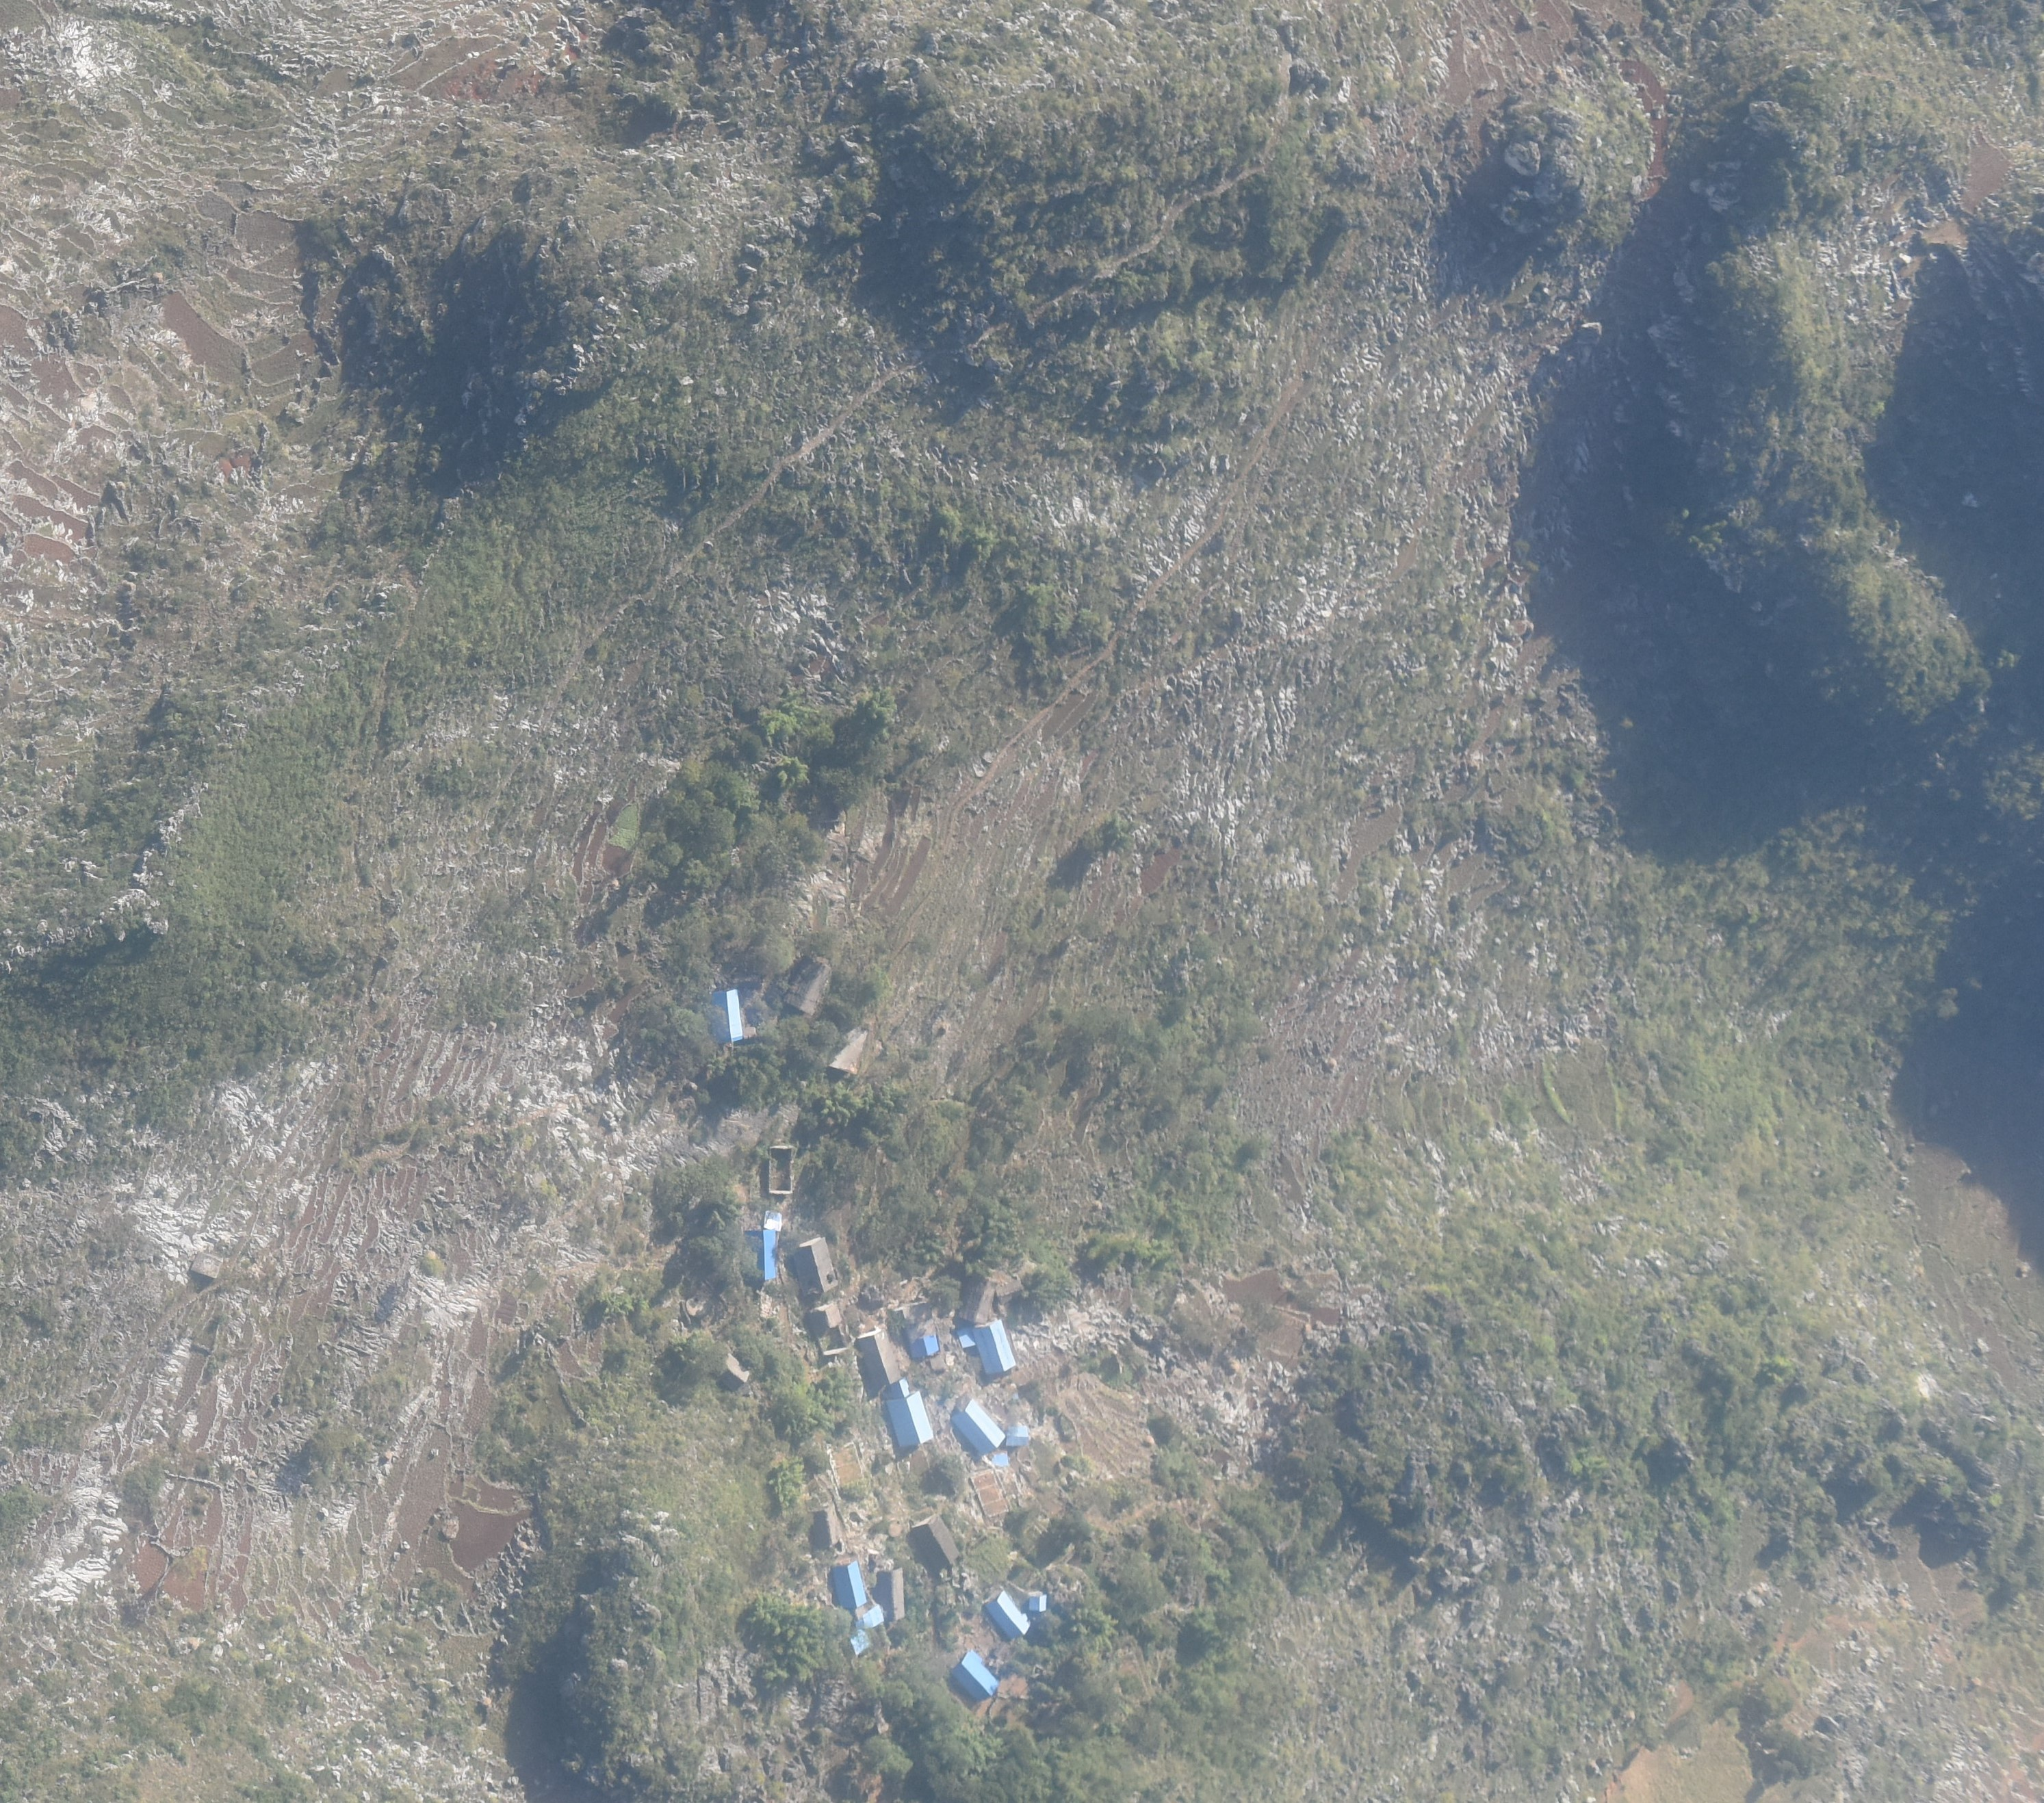building: (785, 957, 832, 1018), (858, 1328, 902, 1391), (911, 1514, 959, 1570), (794, 1236, 837, 1297), (832, 1023, 869, 1076), (958, 1276, 994, 1323), (877, 1568, 905, 1620), (719, 1351, 749, 1392), (771, 1145, 794, 1194), (810, 1304, 843, 1330), (996, 1279, 1024, 1304)
prefabricated-house: (951, 1397, 1005, 1453), (951, 1648, 999, 1700), (886, 1391, 931, 1446), (975, 1317, 1017, 1375), (987, 1589, 1031, 1641), (740, 1230, 778, 1281), (707, 990, 742, 1042), (834, 1561, 867, 1612), (855, 1606, 884, 1631), (911, 1333, 937, 1357), (1005, 1424, 1029, 1446), (848, 1631, 869, 1657), (956, 1324, 977, 1351), (888, 1377, 909, 1399), (764, 1211, 782, 1232), (1031, 1594, 1046, 1612), (992, 1453, 1008, 1467)
well: (886, 1523, 902, 1538)
